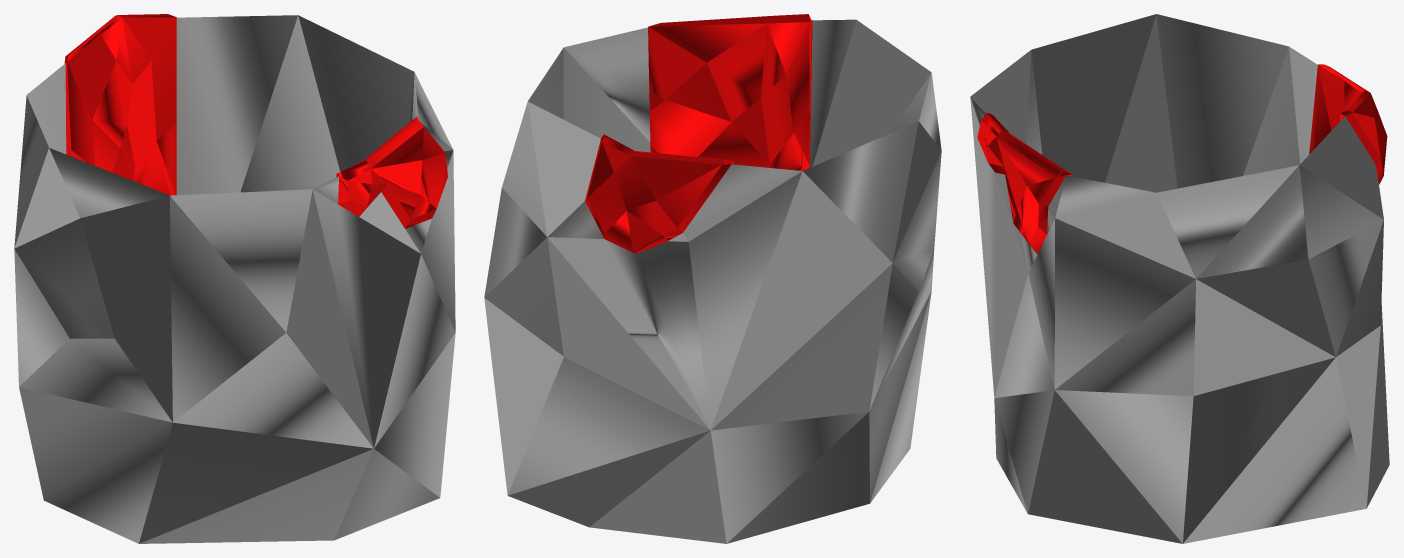
Rendered from stm_item_PaintBucket.fbx.
The picture shows the model from 3 angles, left to right: view 1: azimuth 30°, elevation 25°; view 2: azimuth 150°, elevation 25°; view 3: azimuth 270°, elevation 25°; orthographic projection. The views are drawn at different scales.
Parts seen in each view (by area): view 1: Cylinder; view 2: Cylinder; view 3: Cylinder.
Part boxes in pixels (left/top/right/bottom): Cylinder: left=14, top=14, right=455, bottom=543; Cylinder: left=484, top=14, right=941, bottom=543; Cylinder: left=970, top=14, right=1389, bottom=543.
Size of the model in its own units: 91.59 by 85.38 by 90.27.
